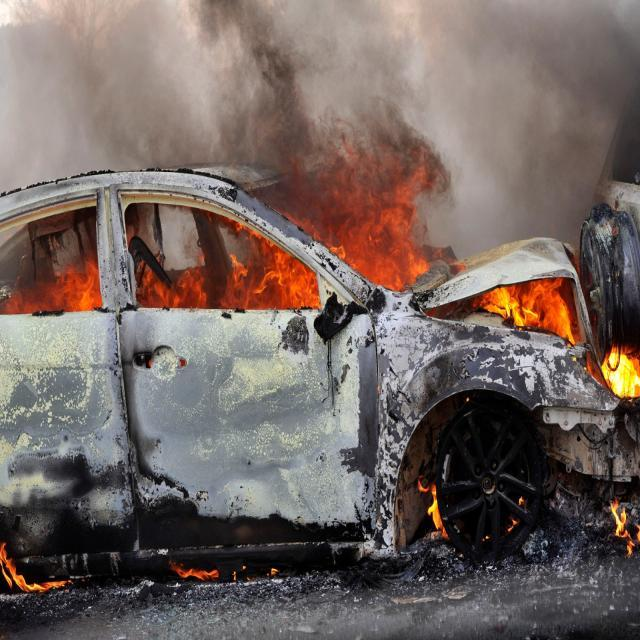Fire: (321, 154, 429, 293), (138, 247, 316, 310), (4, 250, 101, 314), (476, 276, 576, 338), (0, 538, 69, 595), (607, 498, 640, 556), (604, 347, 640, 399), (168, 558, 221, 584)
Smoke: (2, 0, 640, 152)
